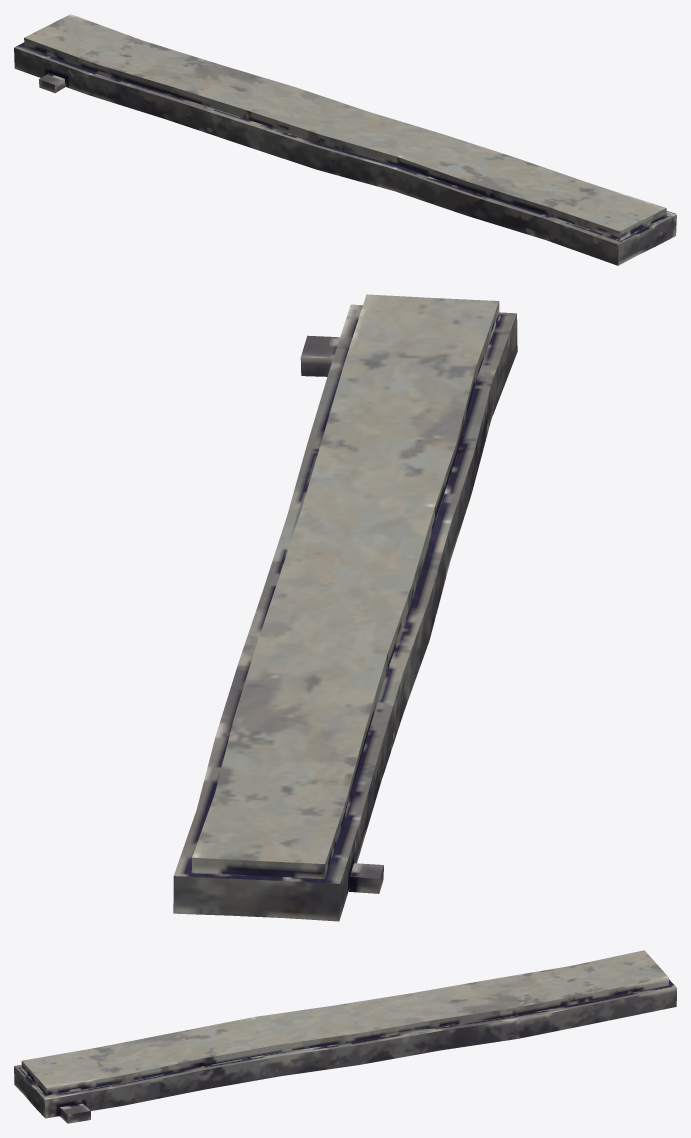
3 renders of one model, top to bottom at view 1: azimuth 30°, elevation 25°; view 2: azimuth 150°, elevation 25°; view 3: azimuth 270°, elevation 25°, orthographic. The views are drawn at different scales.
Parts seen in each view (by area): view 1: Footing; view 2: Footing; view 3: Footing.
Boxes of the visible parts, bbox=[...] form: Footing: bbox=[14, 14, 676, 265]; Footing: bbox=[173, 294, 517, 921]; Footing: bbox=[14, 950, 676, 1123].
Size of the model in its own units: 6.14 by 0.6263 by 11.54.
Materials: 1 (1 with a texture image).
